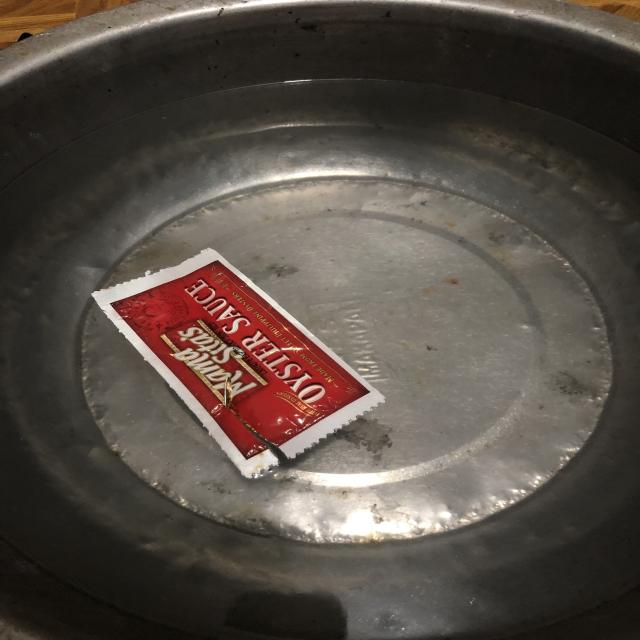Plastic Wrapper: (96, 238, 392, 488)
